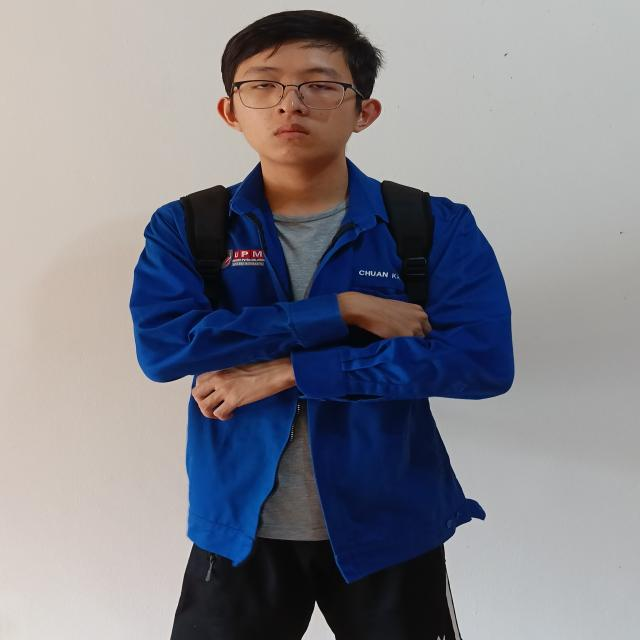person_with_labcoat: (130, 11, 514, 640)
